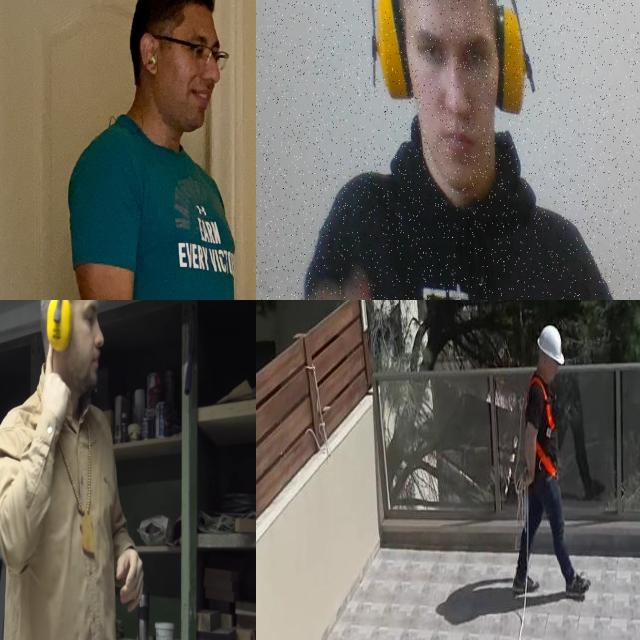Ear-protection: (355, 0, 533, 195), (40, 300, 104, 392)
Harness: (524, 377, 564, 482)
No_Glasses: (411, 19, 498, 80), (77, 300, 102, 337)
